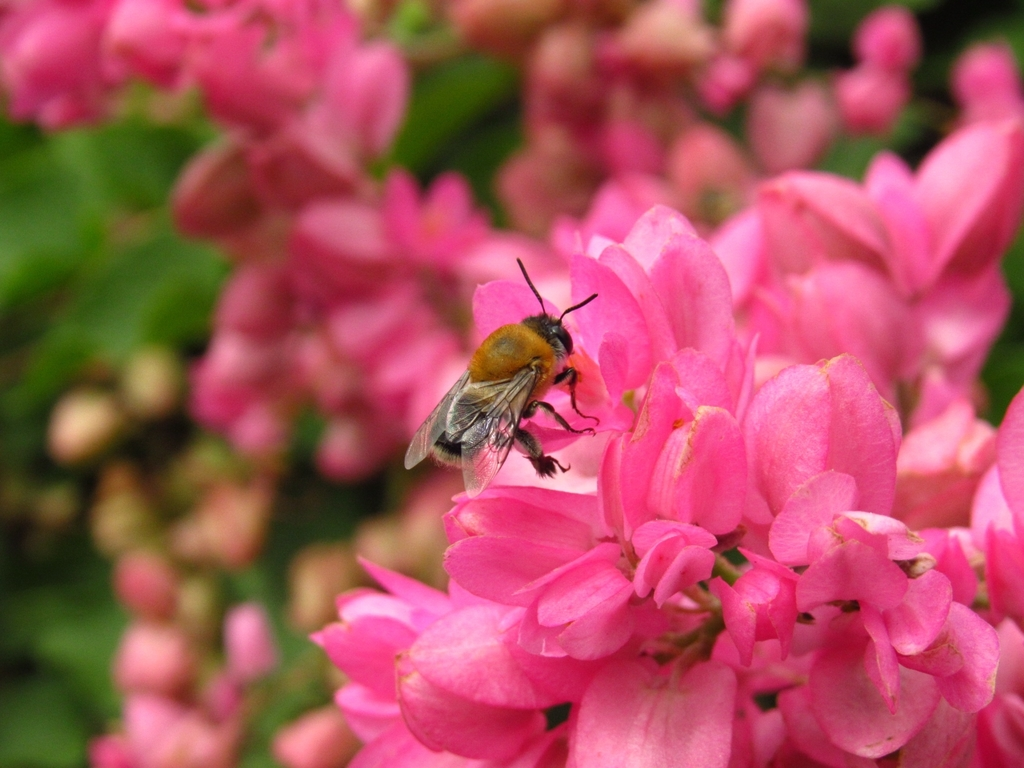not_bumblebee: (403, 258, 602, 500)
